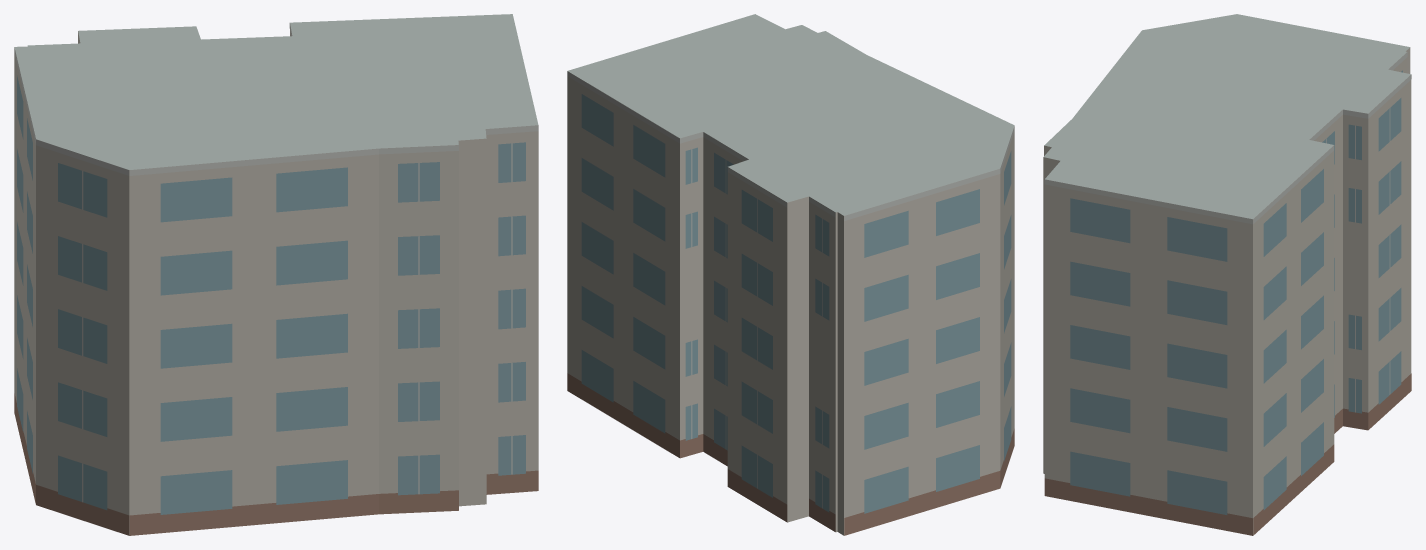
Rendered from survey-upis-33037384.glb.
The picture shows the model from 3 angles, left to right: view 1: azimuth 30°, elevation 25°; view 2: azimuth 150°, elevation 25°; view 3: azimuth 270°, elevation 25°; orthographic projection. The views are drawn at different scales.
Visible parts, largest first — view 1: survey-upis-33037384.tmp; view 2: survey-upis-33037384.tmp; view 3: survey-upis-33037384.tmp.
Boxes of the visible parts, <box> form: survey-upis-33037384.tmp: <box>14,14,538,535</box>; survey-upis-33037384.tmp: <box>567,14,1014,535</box>; survey-upis-33037384.tmp: <box>1043,14,1411,535</box>.
Bounding box in the file's own units: 20.86 × 15 × 15.8.
